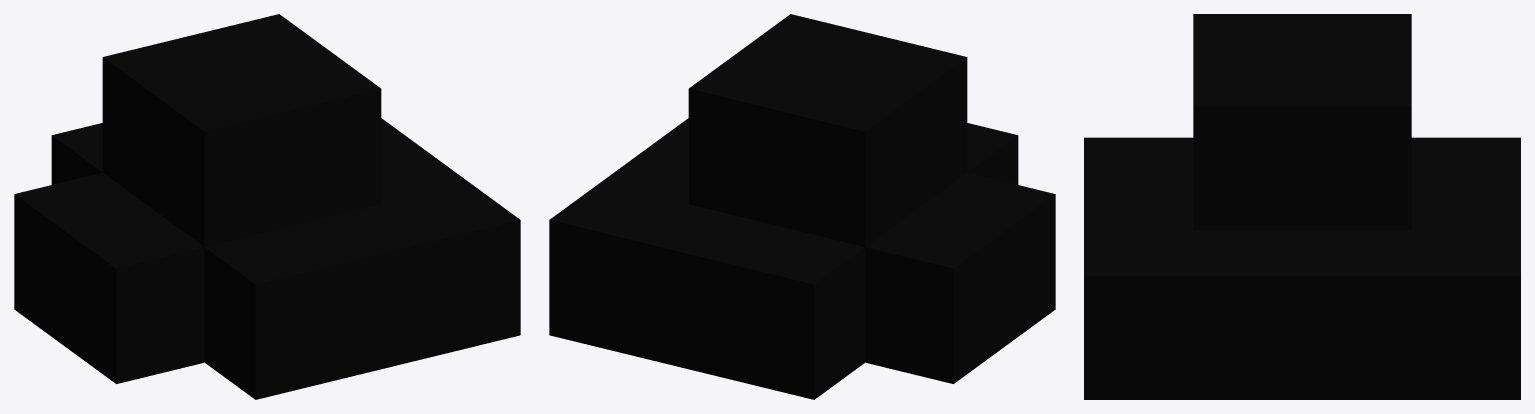
The model's file is ObsidianStackSmall.obj.
3 views of the same model, side by side, from view 1: azimuth 30°, elevation 25°; view 2: azimuth 150°, elevation 25°; view 3: azimuth 270°, elevation 25° (orthographic). The views are drawn at different scales.
Visible parts, largest first — view 1: ObsidianStackSmall; view 2: ObsidianStackSmall; view 3: ObsidianStackSmall.
Boxes of the visible parts, x1,y1,x2,y2 form: ObsidianStackSmall: (14, 14, 520, 399); ObsidianStackSmall: (549, 14, 1055, 399); ObsidianStackSmall: (1084, 14, 1520, 399).
Size of the model in its own units: 8 by 5 by 8.
